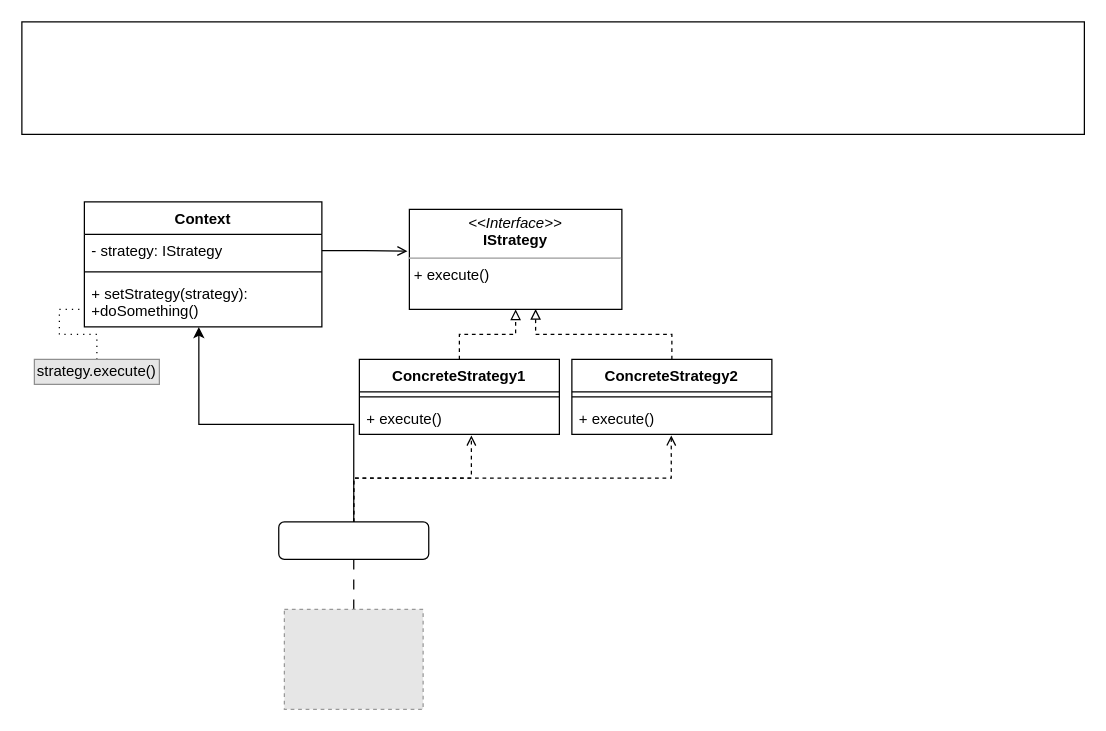
Image size: 1106x731. Some labels were removed from this diagram. Grey dashed boxes stand in for pictures. The centre of each missing label's shape, as x and y in pixels:
Client: point 353,540
Strategy behavioral pattern diagram: point 552,77
